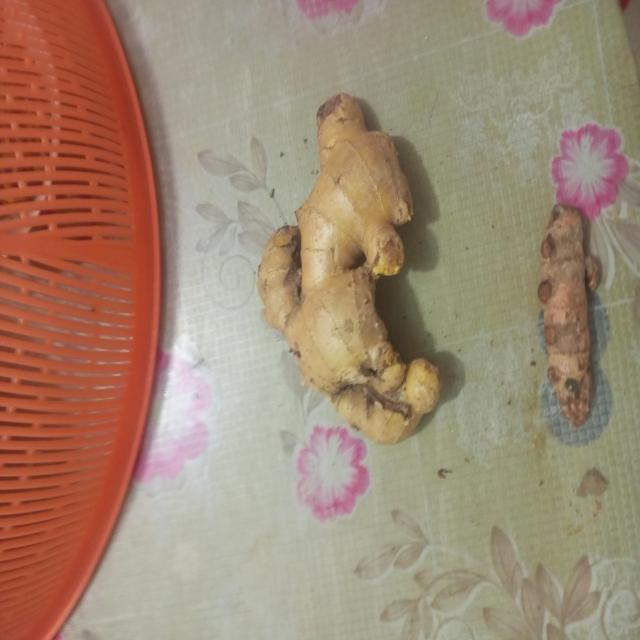ginger: (272, 102, 436, 434), (542, 211, 600, 421)
